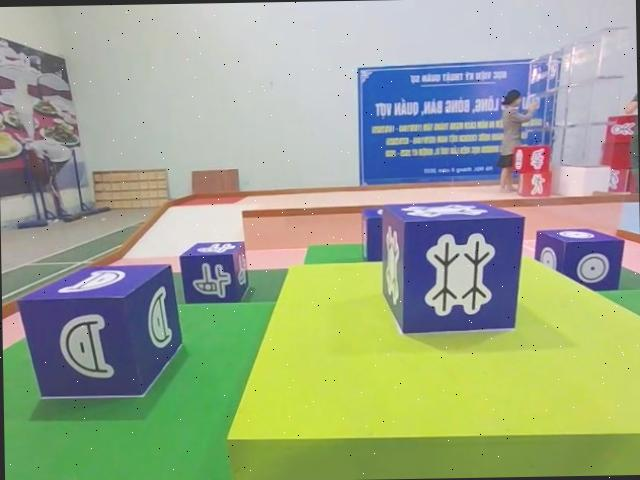R2 Real Blue: (16, 263, 179, 401), (377, 199, 522, 336), (531, 226, 623, 293), (177, 240, 247, 303)
